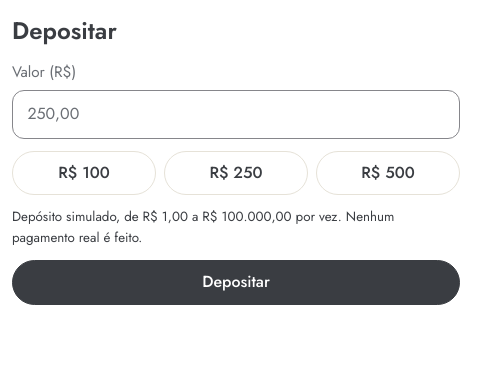
Scenario: DepositForm validation (refuses before any request is made) › refuses abc as not an amount
Type "abc" into the field labelled "Valor (R$)". click: (236, 114)
box: [12,90,460,139]
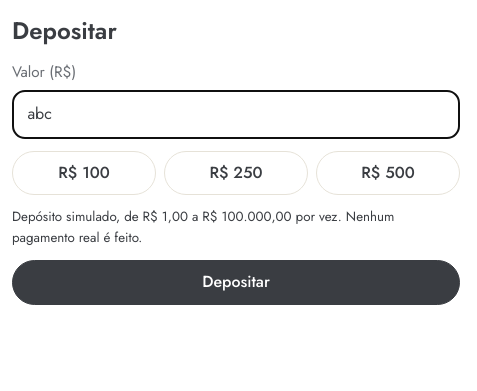
Click the button "Depositar". click: (236, 283)
box: [12,260,460,305]
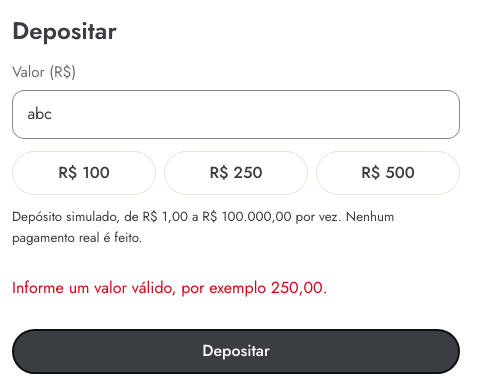
expect the message reads "Informe um valor válido, por exemplo 250,00.": met, box [12,276,328,299]
